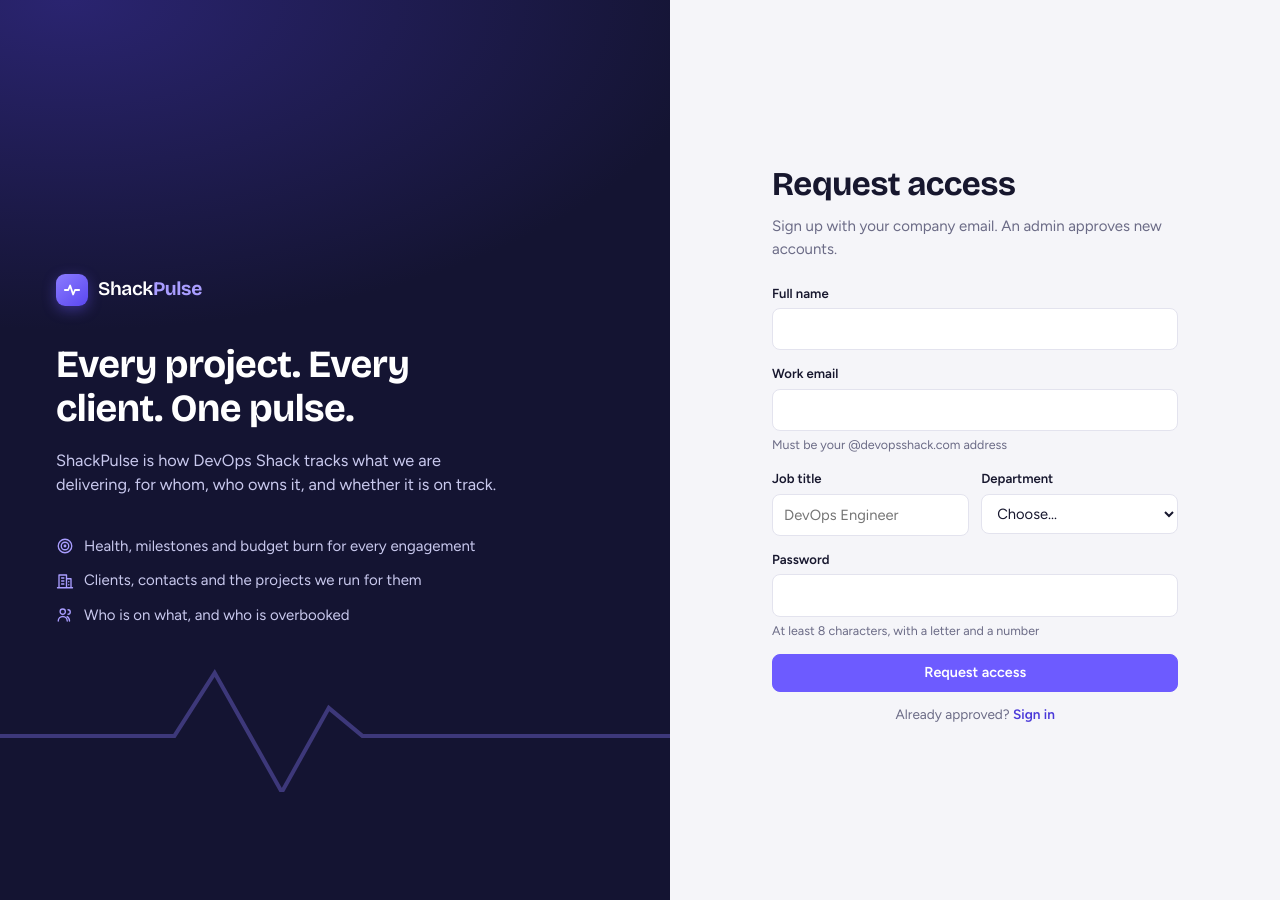
Test: request access › confirms the request is pending
The width and height of the screenshot is (1280, 900).
Step 1. Type "New Joiner" into the field labelled "Full name" → point(975, 329), box x1=772 y1=308 x2=1178 y2=350
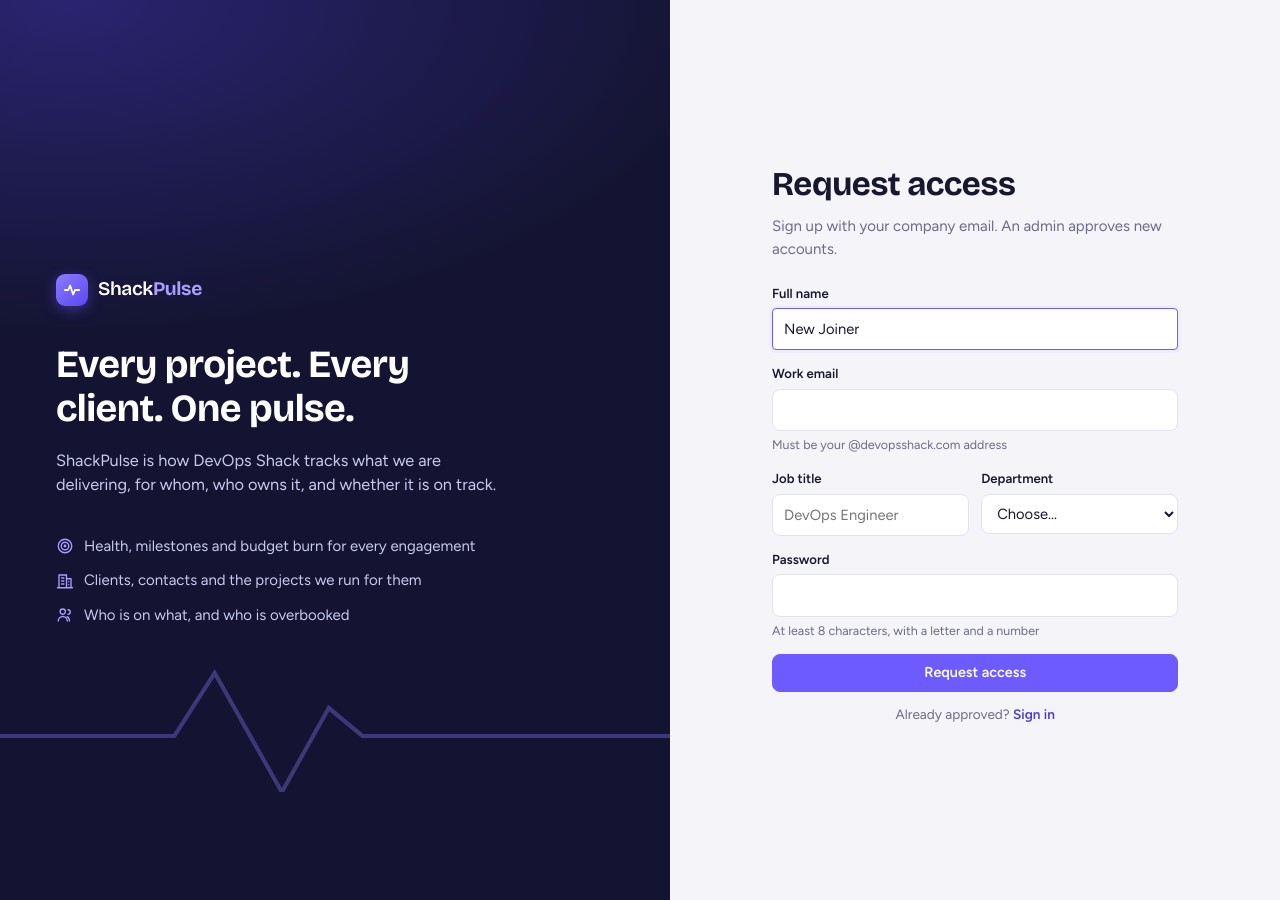
Step 2. Type "new.joiner@devopsshack.com" into the field labelled "Work email" → point(975, 410), box x1=772 y1=389 x2=1178 y2=431
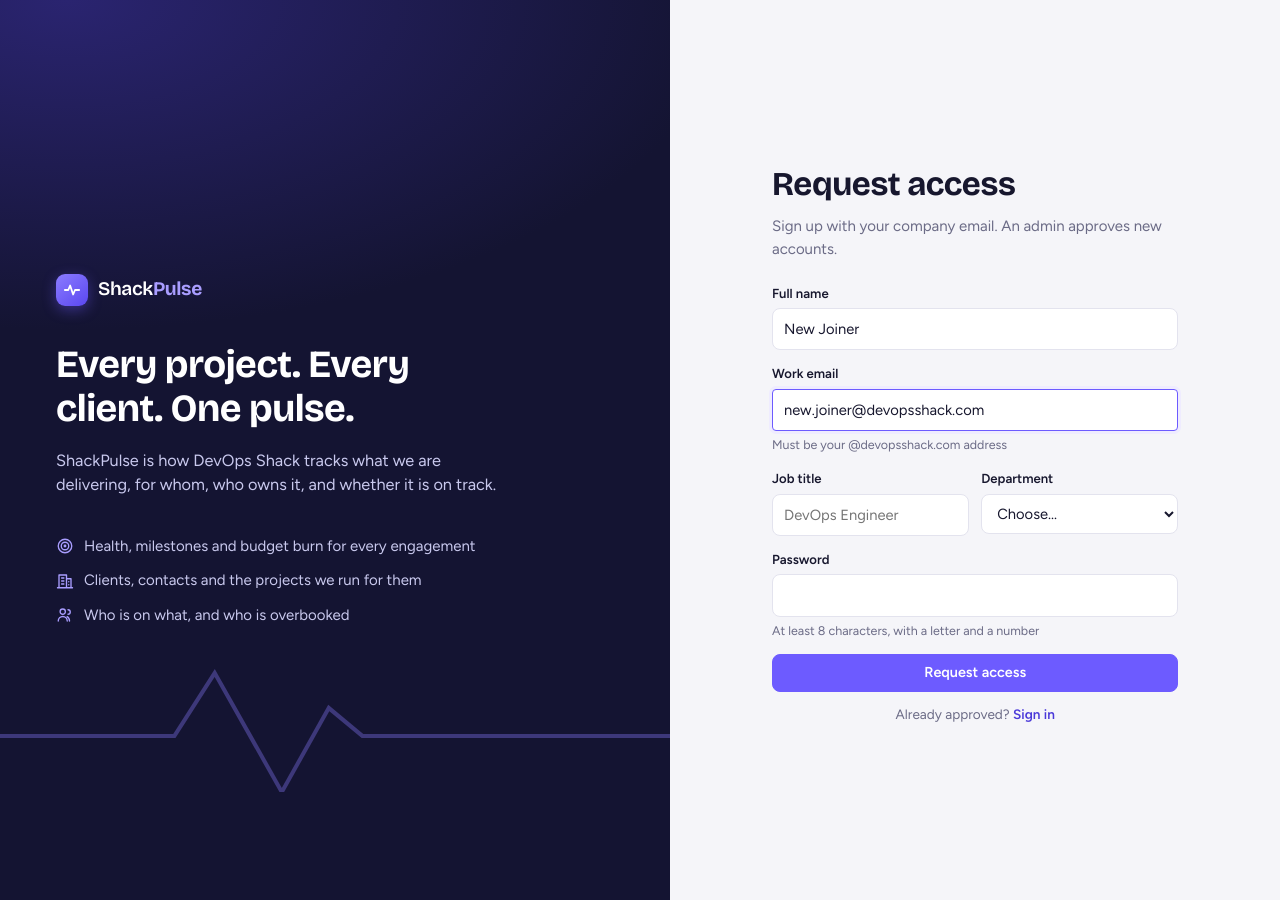
Step 3. Type "Passw0rd!" into the password field labelled "Password" → point(975, 595), box x1=772 y1=574 x2=1178 y2=616
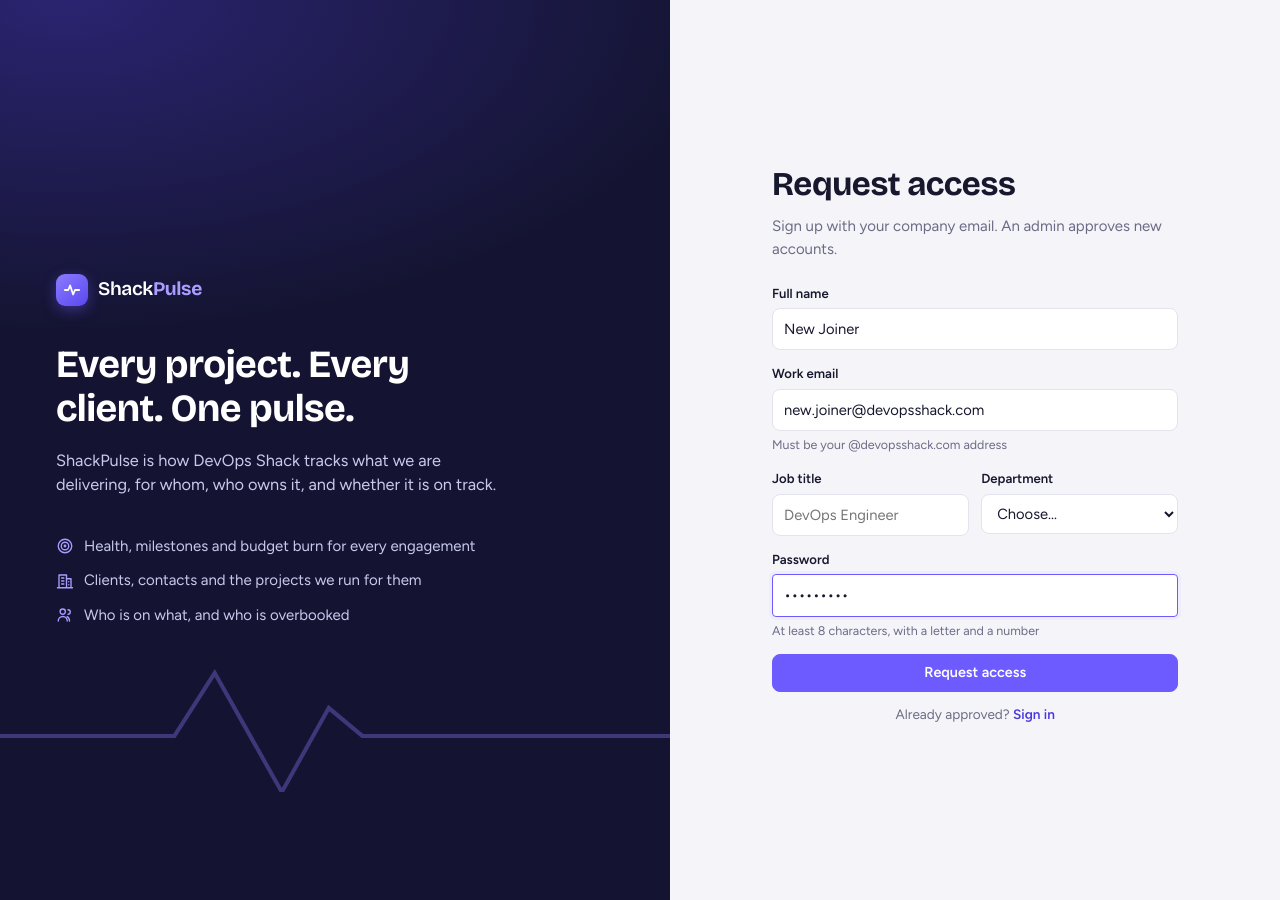
Step 4. Click the button "Request access" → point(975, 673), box x1=772 y1=654 x2=1178 y2=692
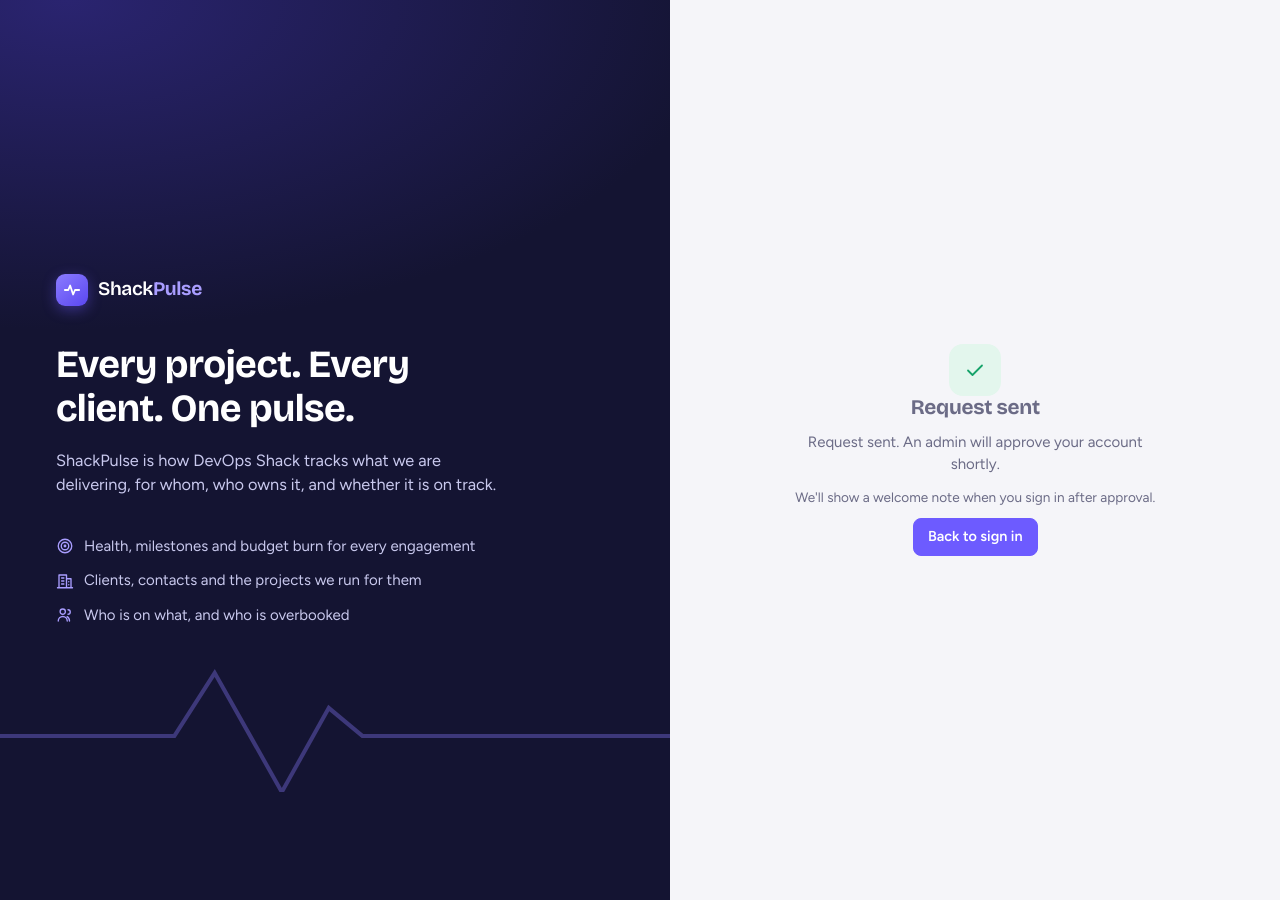
Result: the heading "Request sent" is shown at x1=911 y1=395 x2=1040 y2=420
